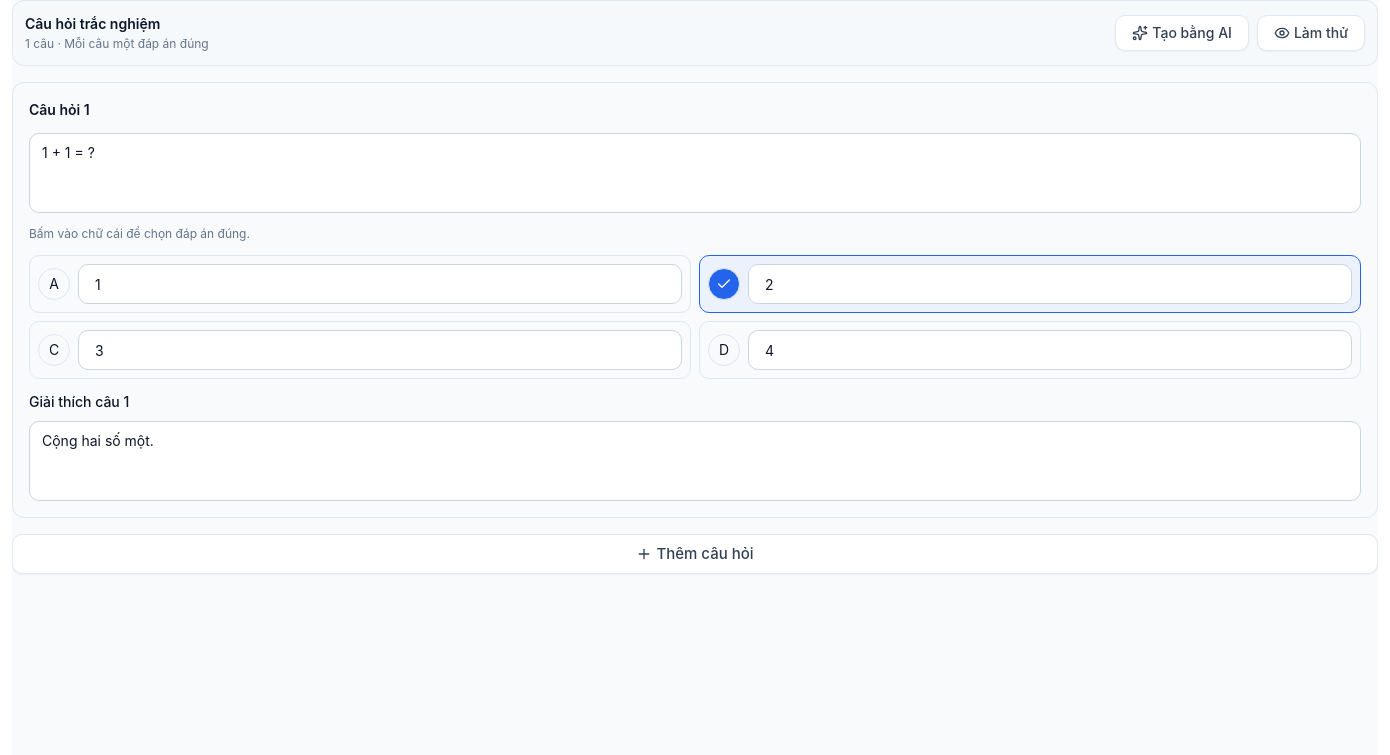
Test: Lesson quiz builder › AI error preserves the current question and surfaces the error
Click the button "Tạo bằng AI". click: (1182, 33)
box: [1115,15,1249,51]
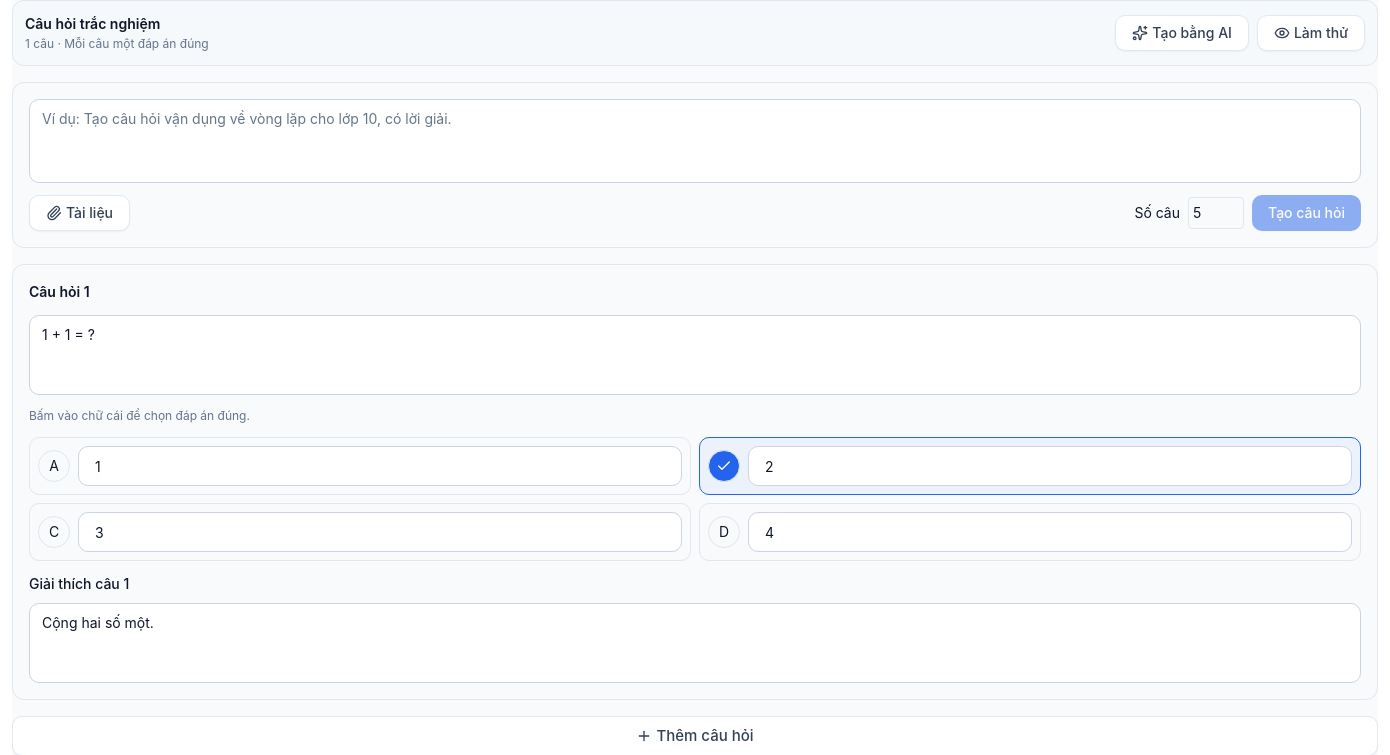
Replace the text in the text box named "Yêu cầu tạo trắc nghiệm" with "Tạo câu hỏi mới". click: (695, 141)
box: [29,99,1361,183]
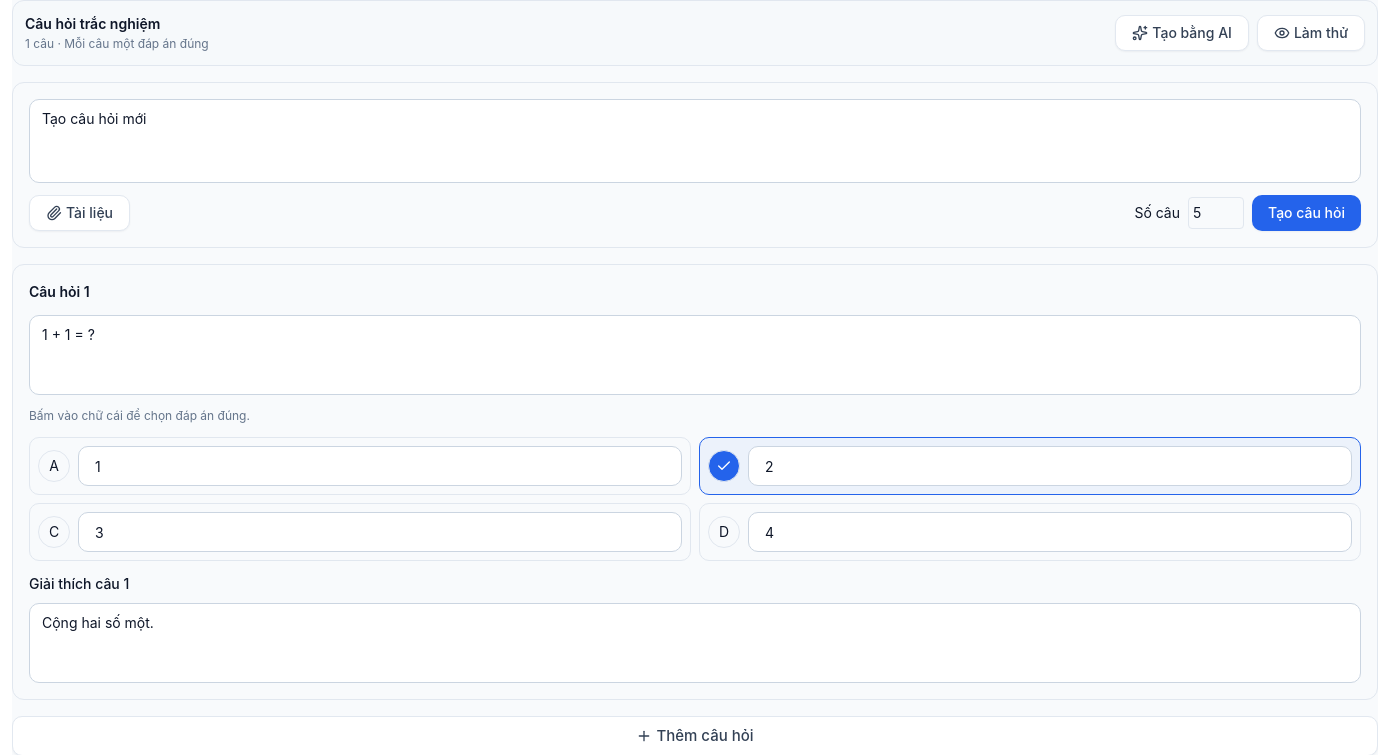
Click the button "Tạo câu hỏi". click: (1306, 213)
box: [1252,195,1361,231]
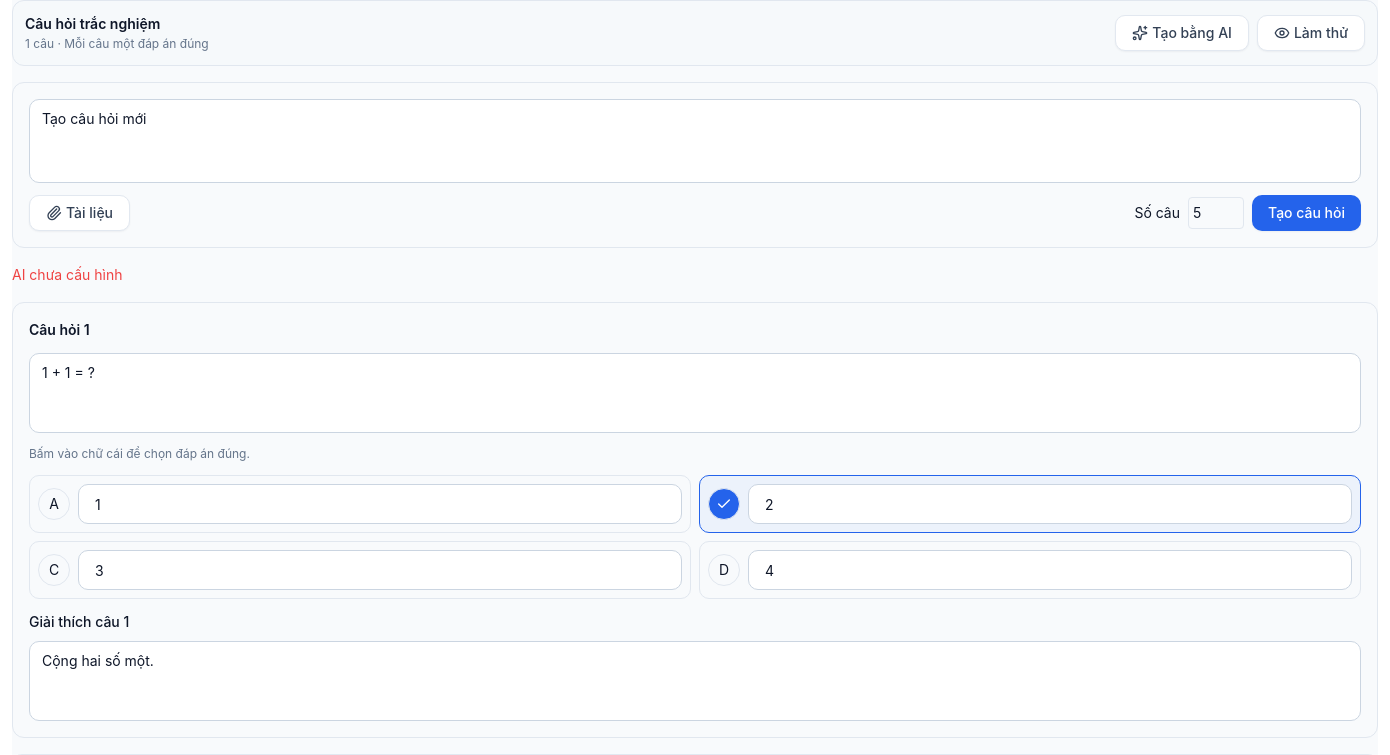
Expected: the text box named "Nội dung câu hỏi 1" holds "1 + 1 = ?", [29,353,1361,433]
Result: the message reads "AI chưa cấu hình" at [12,266,122,283]
